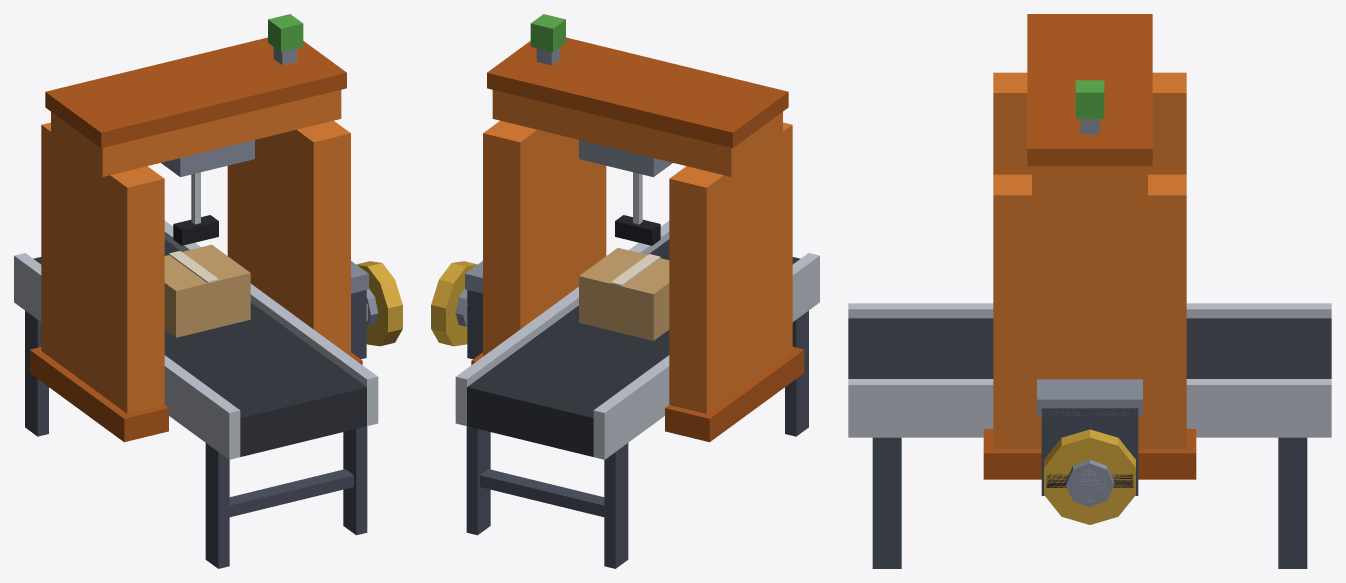
File: hoist.glb
3 renders of one model, left to right at view 1: azimuth 30°, elevation 25°; view 2: azimuth 150°, elevation 25°; view 3: azimuth 270°, elevation 25°, orthographic. The views are drawn at different scales.
Visible parts, largest first — view 1: hoist, spin-x, slide-up; view 2: hoist, spin-x, slide-up; view 3: hoist, spin-x.
Boxes of the visible parts, <box> form: hoist: <box>14,14,378,568</box>; spin-x: <box>356,261,402,346</box>; slide-up: <box>173,172,218,245</box>; hoist: <box>455,14,819,568</box>; spin-x: <box>431,261,477,346</box>; slide-up: <box>615,172,660,245</box>; hoist: <box>848,14,1331,568</box>; spin-x: <box>1044,429,1135,524</box>.
Bounding box in the file's own units: 0.85 × 1.12 × 1.
3 materials, 3 textured.
